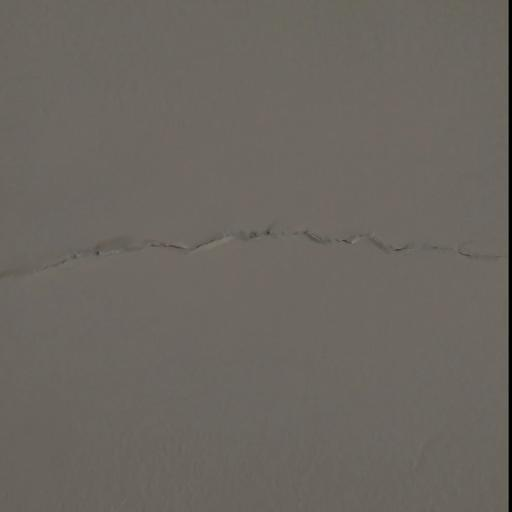minor_crack: (0, 215, 512, 302)
